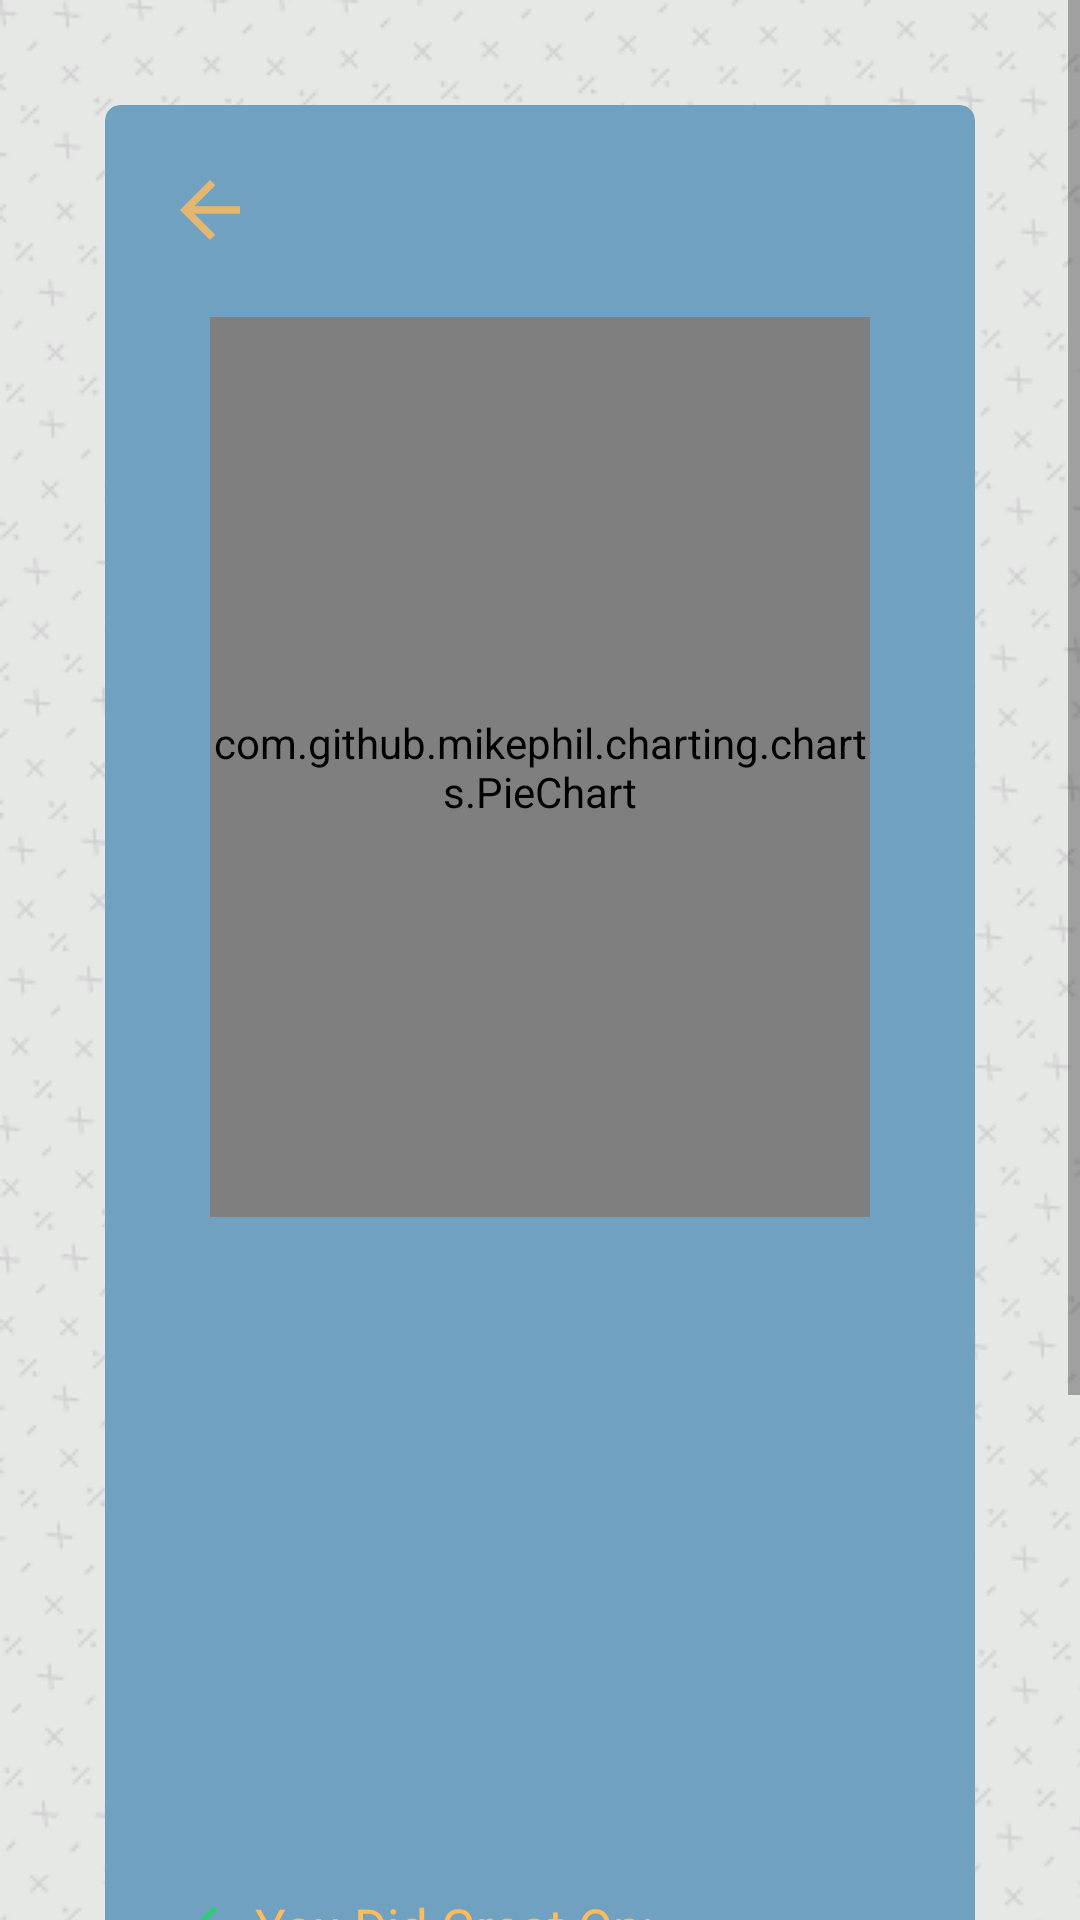

Icons on this 1080x1920 Android screen, each with the point to tap as (x,y):
Back: (210,210)
